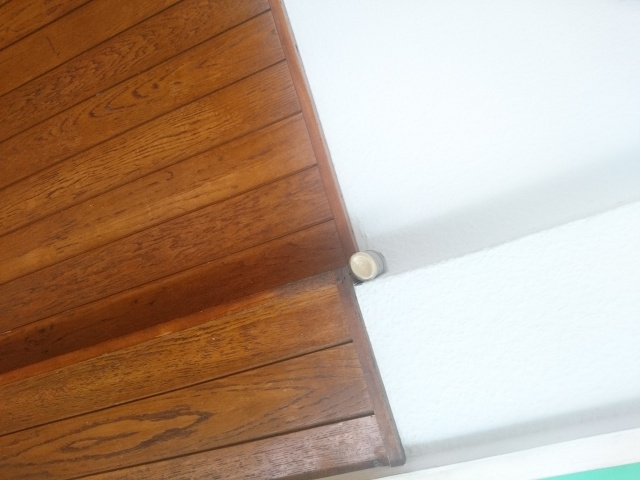Kotanyi Garlic Granules 70g: (346, 248, 388, 284)
